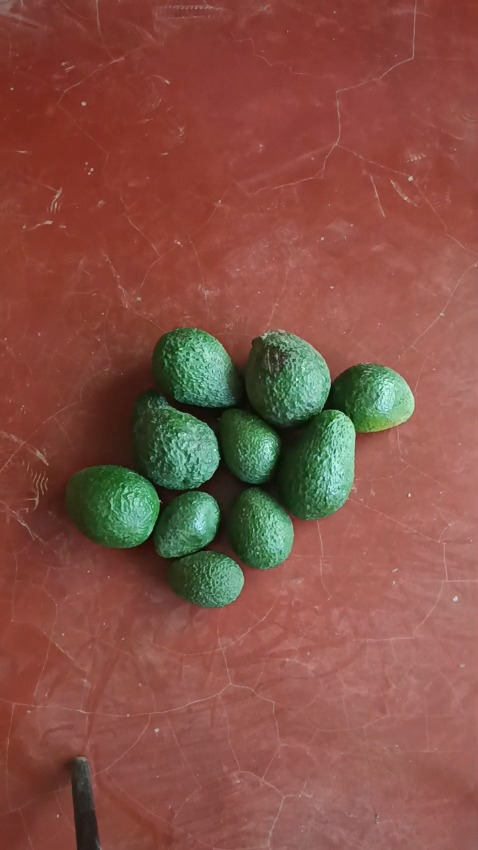Primera: (131, 392, 220, 490), (276, 409, 355, 519), (243, 329, 331, 427), (65, 464, 160, 548), (152, 327, 241, 409)
Segunda: (329, 362, 414, 433), (216, 407, 280, 484)
Tercera: (227, 487, 293, 568), (153, 490, 221, 559), (166, 550, 243, 606)
